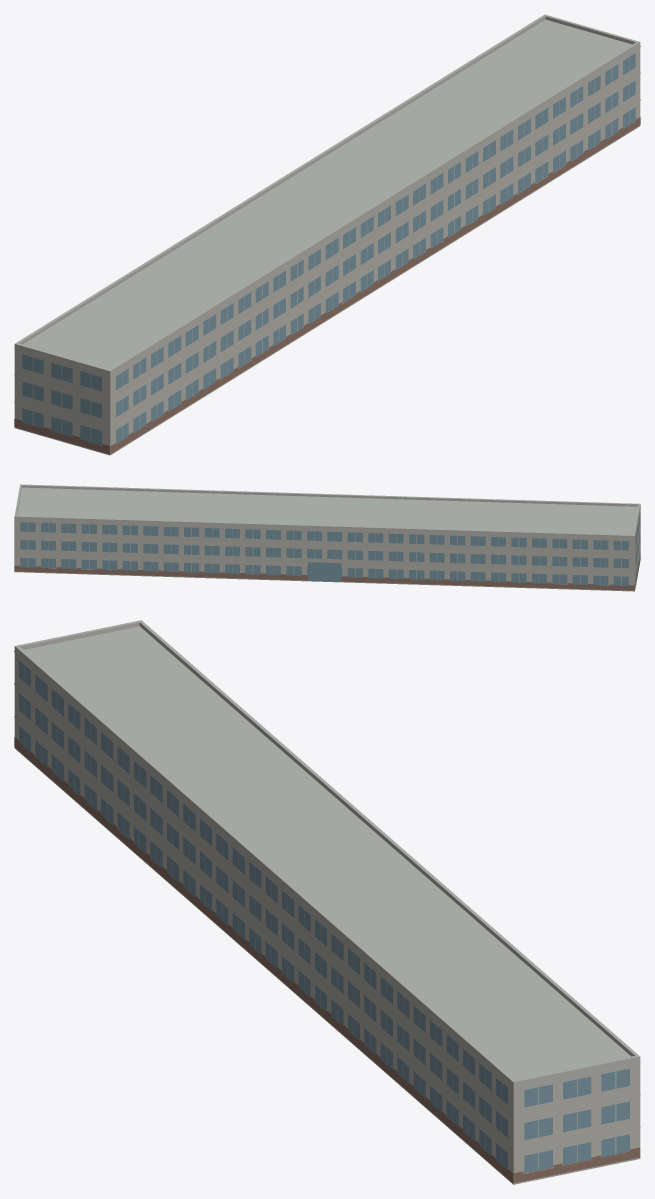
Rendered from public-9cfcc196-a590-40d6-8920-04bfee5c0160.glb.
The picture shows the model from 3 angles, top to bottom: view 1: azimuth 30°, elevation 25°; view 2: azimuth 150°, elevation 25°; view 3: azimuth 270°, elevation 25°; orthographic projection. The views are drawn at different scales.
Parts seen in each view (by area): view 1: public-9cfcc196-a590-40d6-8920-04bfee5c0160; view 2: public-9cfcc196-a590-40d6-8920-04bfee5c0160; view 3: public-9cfcc196-a590-40d6-8920-04bfee5c0160.
Boxes of the visible parts, x1,y1,x2,y2 form: public-9cfcc196-a590-40d6-8920-04bfee5c0160: (14,14,640,455); public-9cfcc196-a590-40d6-8920-04bfee5c0160: (14,484,640,591); public-9cfcc196-a590-40d6-8920-04bfee5c0160: (14,620,640,1184).
Size of the model in its own units: 88.62 by 9.15 by 50.73.
